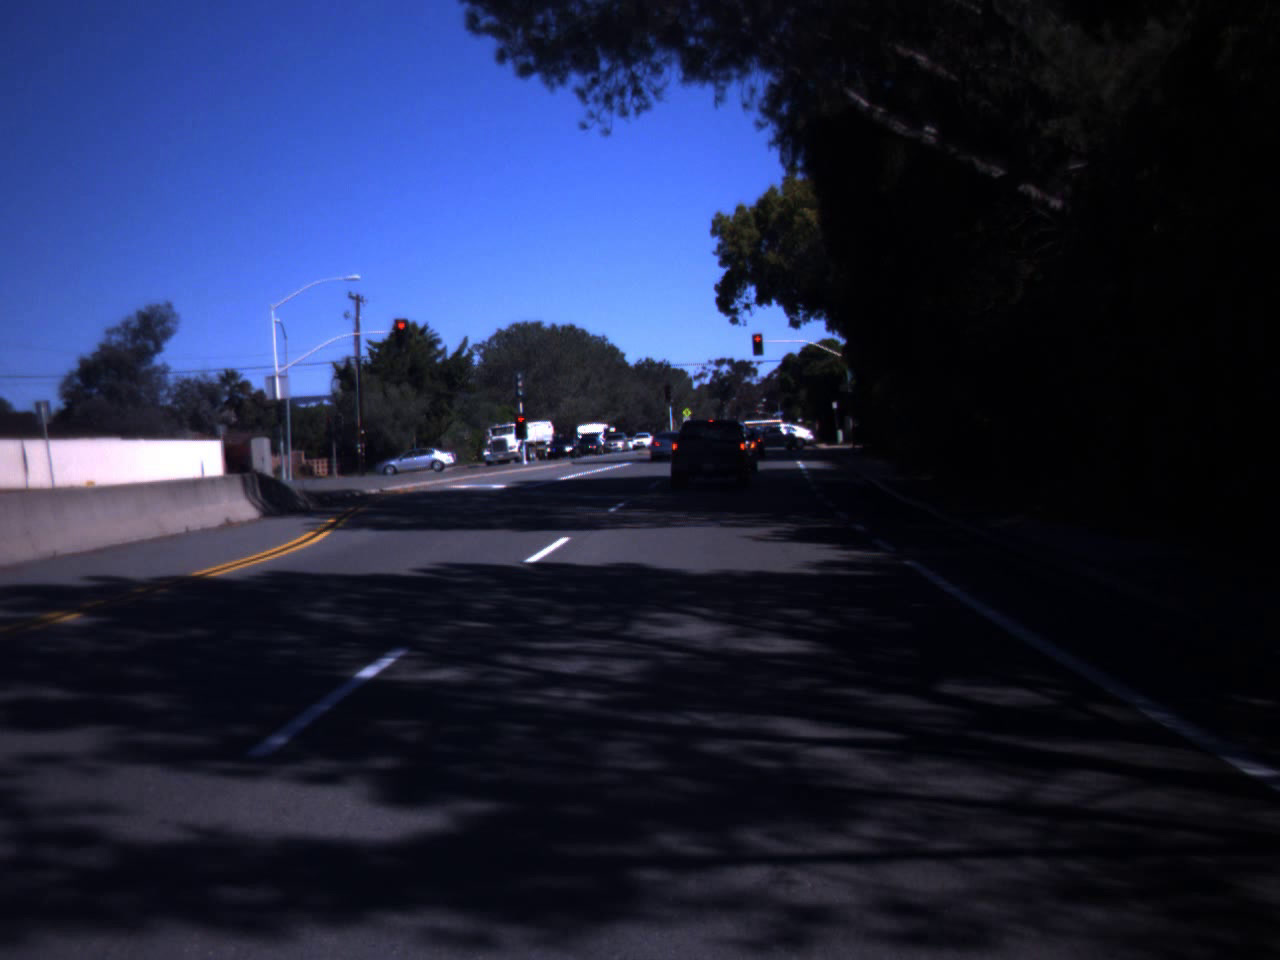stop: (512, 416, 530, 434), (394, 322, 409, 340)
